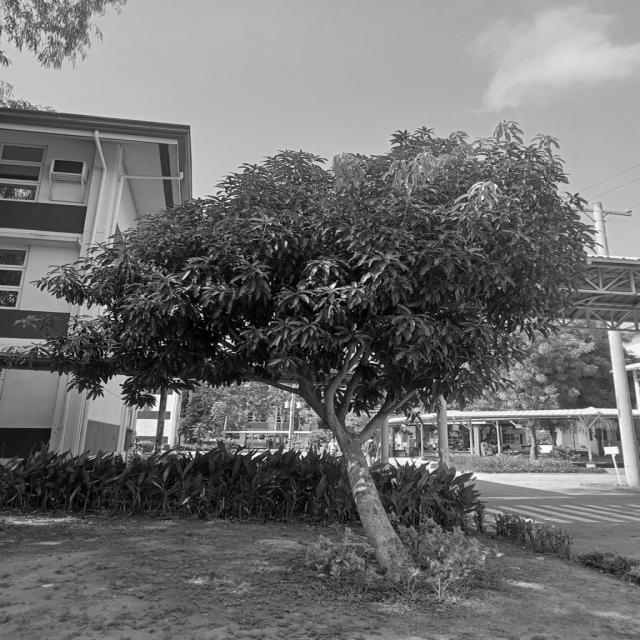Mango-Tree: (118, 139, 565, 477)
